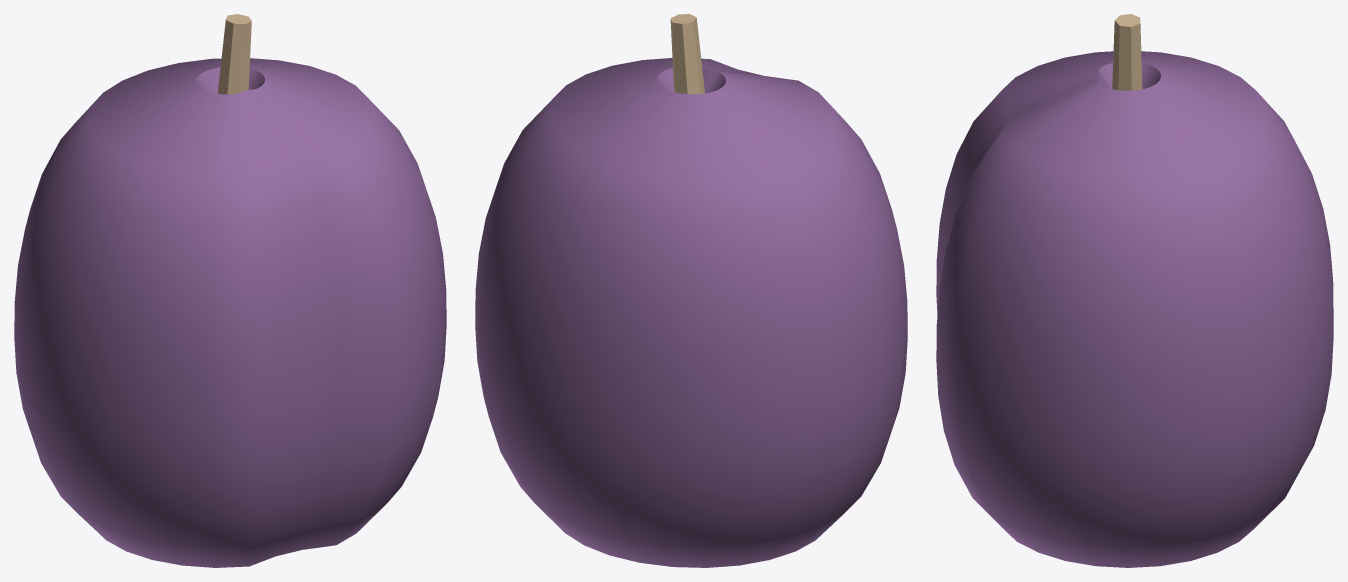
Rendered from fresh-produce-and-groceries-plum-4b5a5fb2__24315.glb.
3 views of the same model, side by side, from view 1: azimuth 30°, elevation 25°; view 2: azimuth 150°, elevation 25°; view 3: azimuth 270°, elevation 25° (orthographic).
Visible parts, largest first — view 1: plum; view 2: plum; view 3: plum.
Part boxes in pixels (left/top/right/bottom): plum: left=14, top=14, right=446, bottom=567; plum: left=475, top=14, right=907, bottom=567; plum: left=936, top=14, right=1333, bottom=567.
Size of the model in its own units: 0.047 by 0.0621 by 0.0424.
